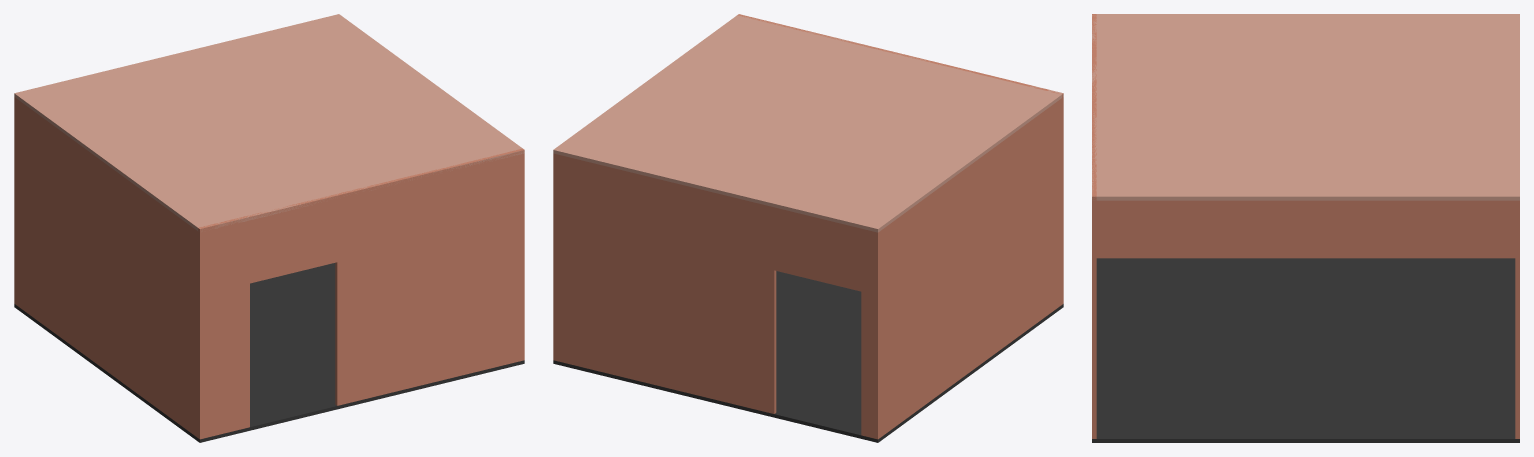
Rendered from Living00.gltf.
3 views of the same model, side by side, from view 1: azimuth 30°, elevation 25°; view 2: azimuth 150°, elevation 25°; view 3: azimuth 270°, elevation 25° (orthographic). The views are drawn at different scales.
Parts seen in each view (by area): view 1: Living00_Roof, Living00_Wall0, Living00_Wall1, Living00_Floor; view 2: Living00_Roof, Living00_Wall2, Living00_Wall1, Living00_Floor, Living00_Wall0; view 3: Living00_Roof, Living00_Floor, Living00_Wall1, Living00_Wall0, Living00_Wall2.
Boxes of the visible parts, x1,y1,x2,y2 form: Living00_Roof: (14,14,524,231); Living00_Wall0: (198,148,524,439); Living00_Wall1: (14,97,203,438); Living00_Floor: (14,263,524,442); Living00_Roof: (553,14,1063,232); Living00_Wall2: (553,153,879,438); Living00_Wall1: (874,97,1063,439); Living00_Floor: (553,271,1063,442); Living00_Wall0: (737,14,1063,304); Living00_Roof: (1092,14,1519,200); Living00_Floor: (1092,258,1519,442); Living00_Wall1: (1096,200,1515,258); Living00_Wall0: (1092,14,1096,438); Living00_Wall2: (1515,200,1519,438).
Bounding box in the file's own units: 97 × 61 × 96.
